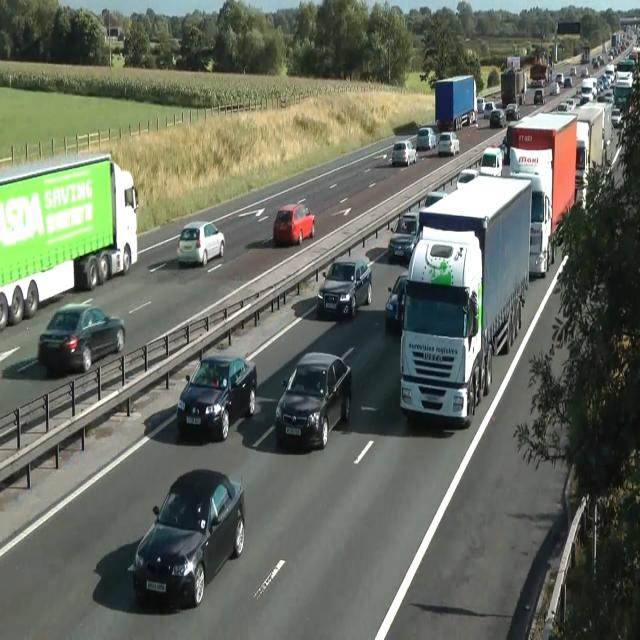bus: (132, 468, 245, 607), (274, 351, 352, 450), (38, 302, 126, 374), (176, 220, 225, 266), (273, 203, 315, 246), (388, 211, 420, 264), (384, 273, 408, 331), (388, 234, 414, 264), (478, 146, 502, 177), (391, 140, 417, 166), (392, 212, 419, 234), (436, 132, 459, 156), (456, 167, 479, 190), (416, 126, 436, 150), (422, 190, 446, 209), (489, 108, 505, 128), (506, 102, 520, 120), (611, 107, 623, 127), (483, 102, 496, 118), (533, 89, 545, 105), (549, 82, 559, 95), (477, 97, 485, 112), (565, 98, 575, 110), (564, 77, 572, 87), (580, 68, 588, 76), (570, 66, 576, 76)
jeep: (176, 353, 257, 441), (316, 256, 372, 320)
minibus: (399, 174, 532, 428), (0, 152, 138, 330), (501, 112, 577, 277), (546, 100, 616, 208), (433, 74, 478, 132), (456, 145, 502, 190), (501, 68, 526, 106), (529, 62, 552, 87)
